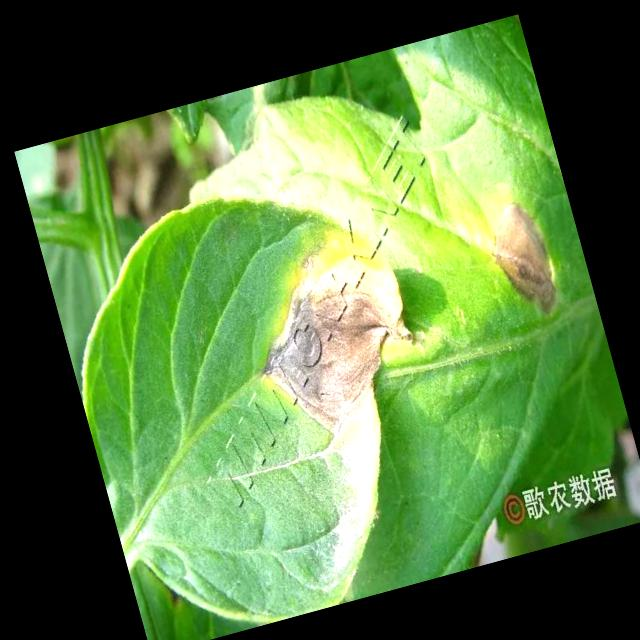Early_blight: (234, 225, 430, 445), (478, 193, 566, 327)
